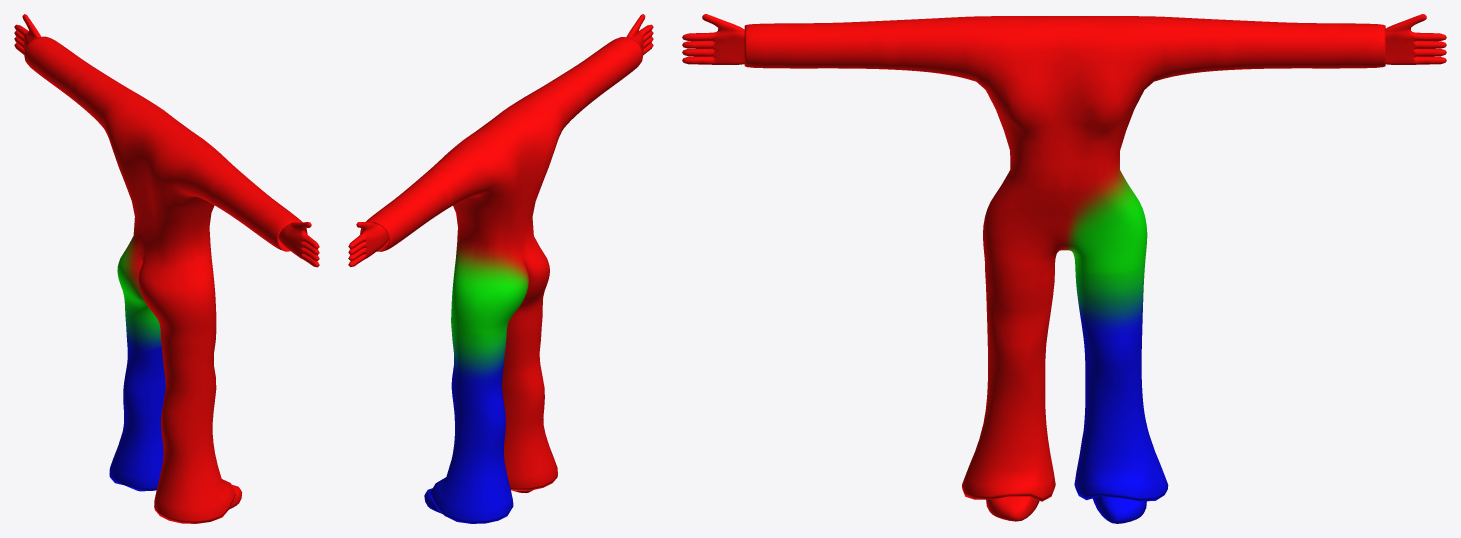
File: female-legs.obj
3 views of the same model, side by side, from view 1: azimuth 30°, elevation 25°; view 2: azimuth 150°, elevation 25°; view 3: azimuth 270°, elevation 25° (orthographic). The views are drawn at different scales.
Bounding box in the file's own units: 3.71 × 15.26 × 22.02.
Materials: 1 (1 with a texture image).
